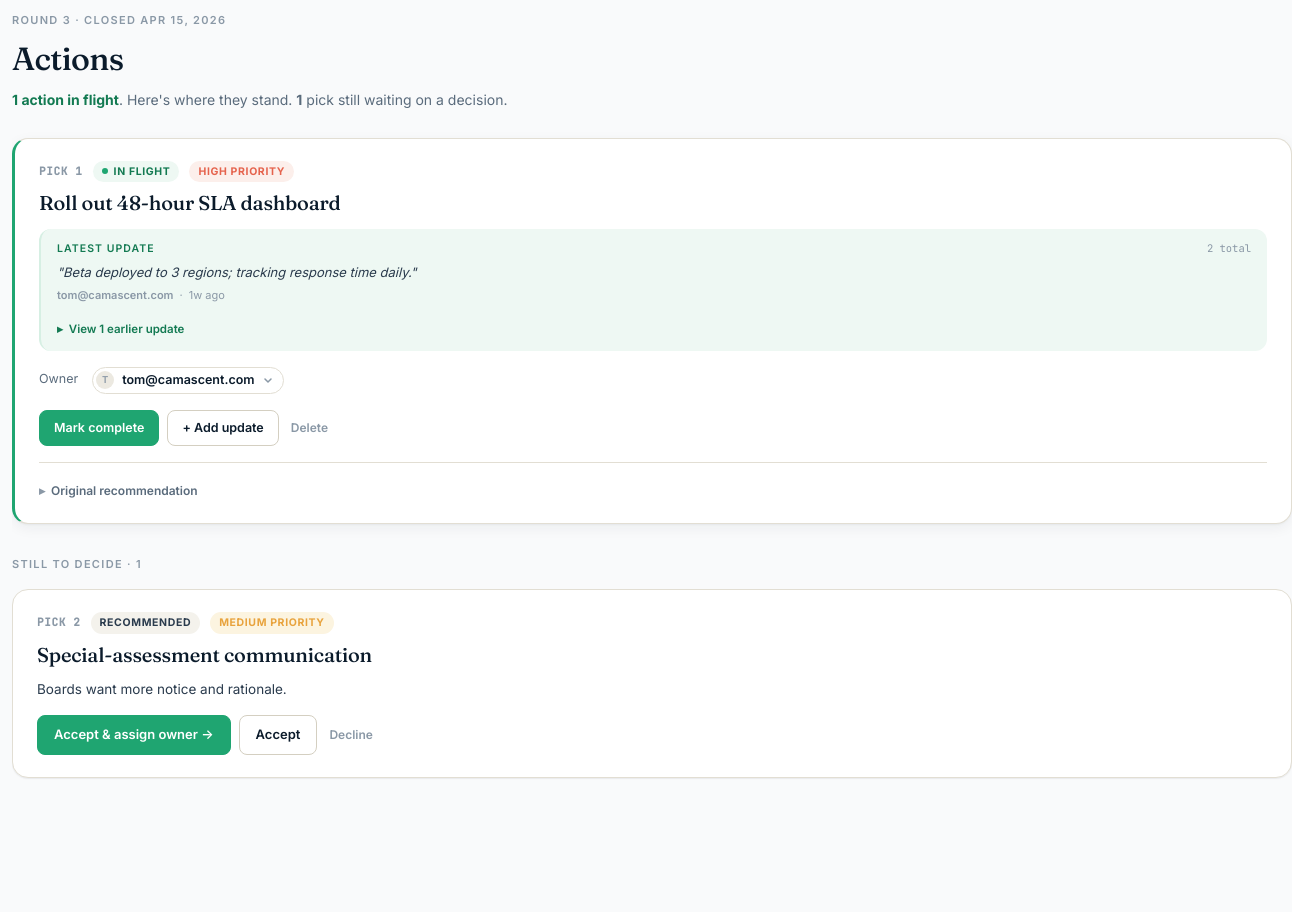
Scenario: Actions screen › Update thread on State B card › hides earlier updates behind an expander, shows them on click
This screenshot has width=1292, height=912.
expect the text "\"Beta deployed to 3 regions; tracking response time daily.\"" is shown: met, box [57,264,417,280]
expect the text "Vendor SOW signed" is not shown: met
Click the button "▸ View 1 earlier update": [121, 330] box [57,321,184,338]
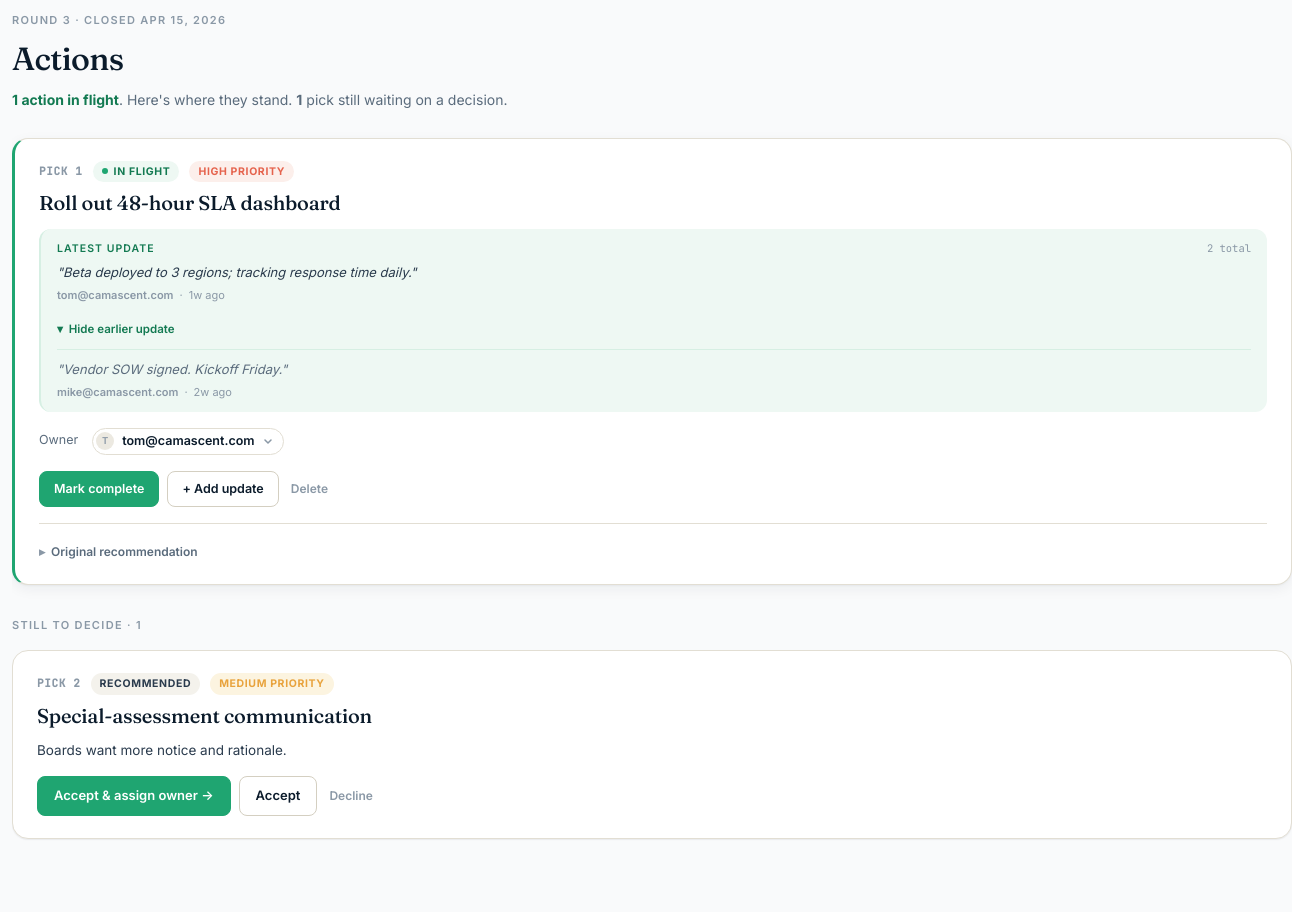
expect the text "\"Vendor SOW signed. Kickoff Friday.\"" is shown: met, box [57,361,287,377]
